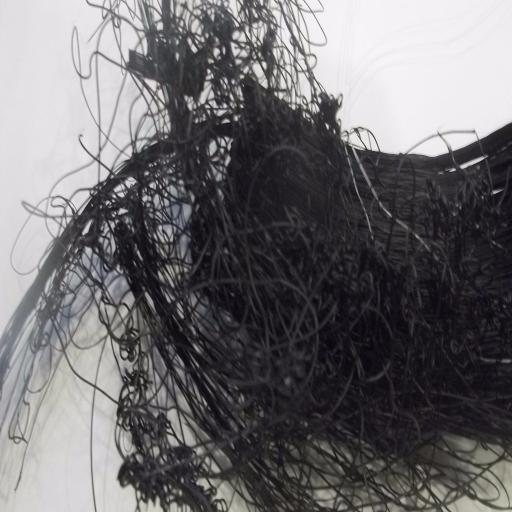spaghetti: (80, 2, 480, 512)
